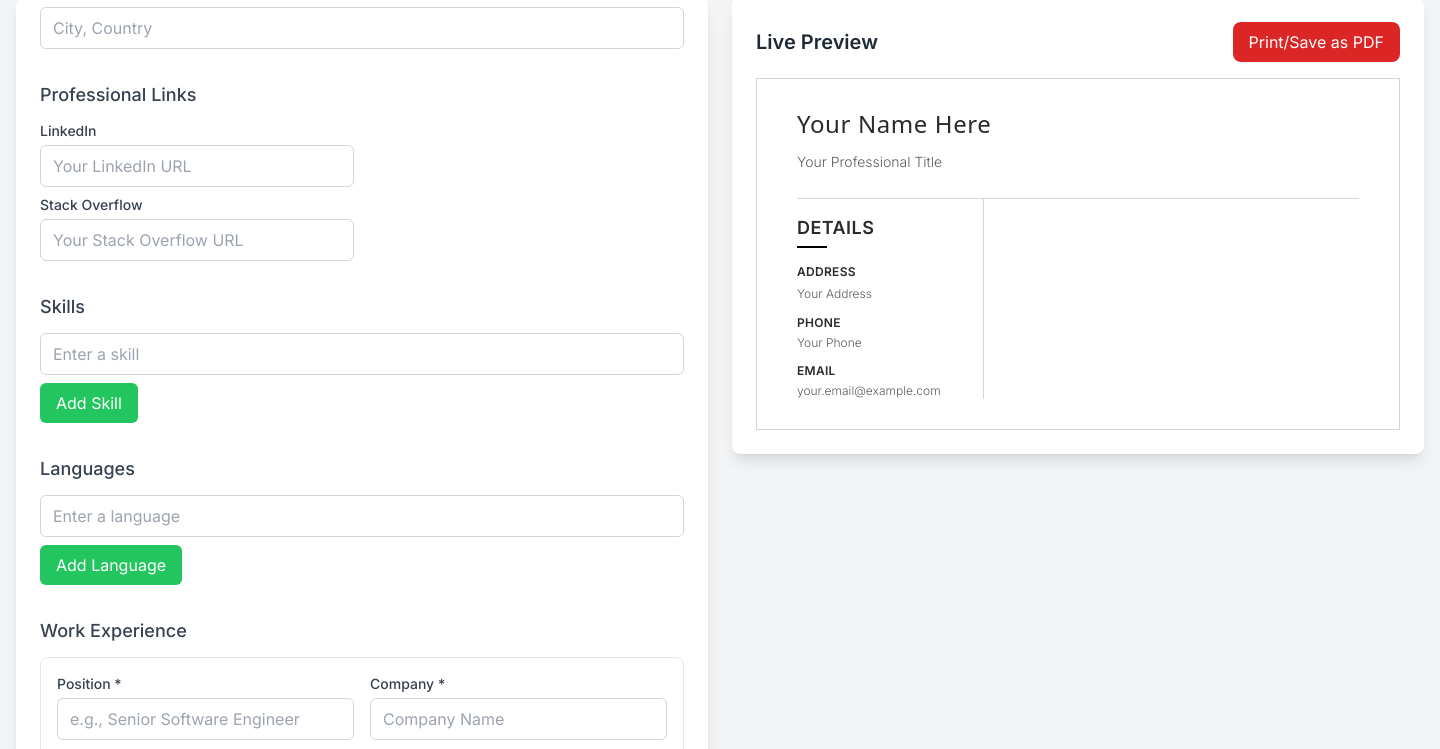
Test case: BuilderPage Component › can add and remove skills
(page scrolled)
Add a skill
Click the button "Add Skill": (89,403) [40, 383, 138, 423]
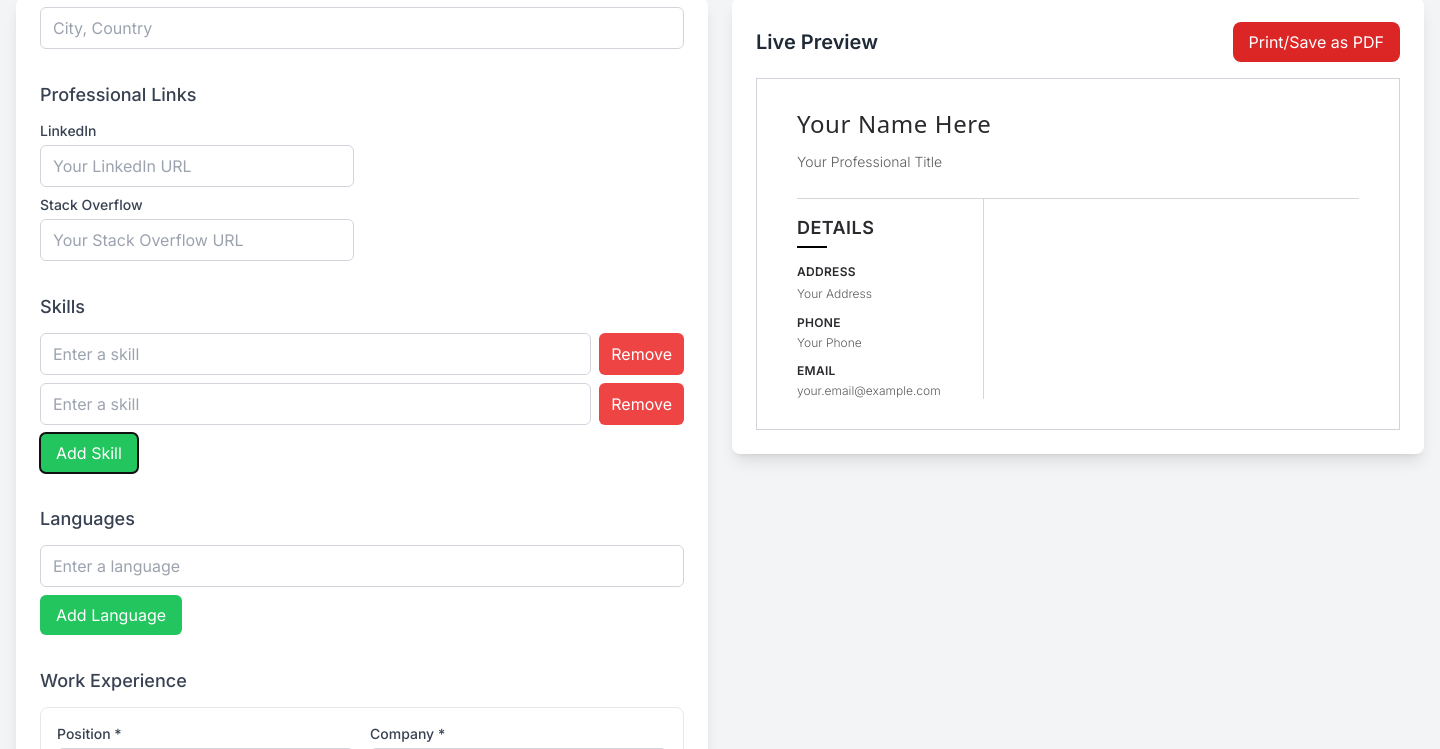
Check: the number of fields with placeholder "Enter a skill" is 2
Type in skill
In the 1st field with placeholder "Enter a skill": (316,354) [40, 333, 591, 375], type "JavaScript"
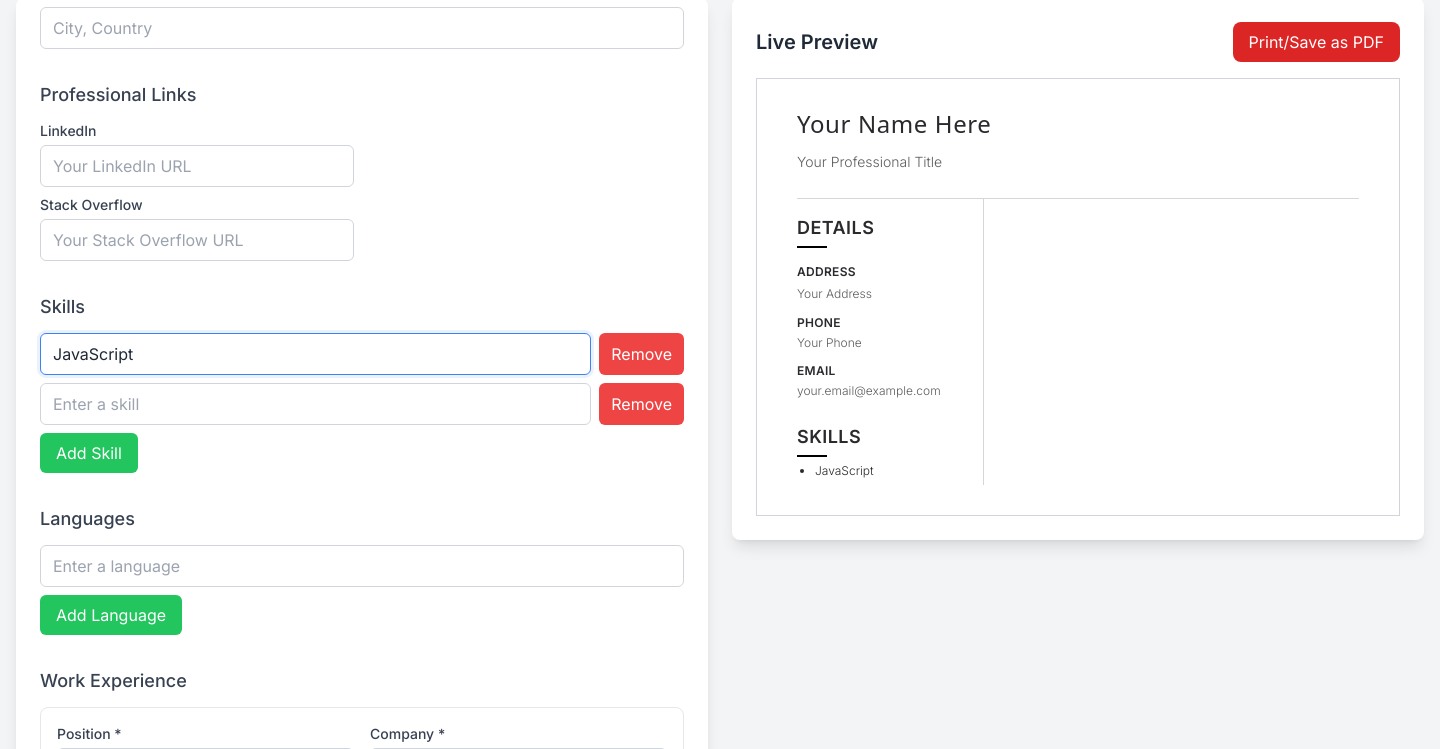
Click the 1st button "Remove": (642,354) [599, 333, 684, 375]
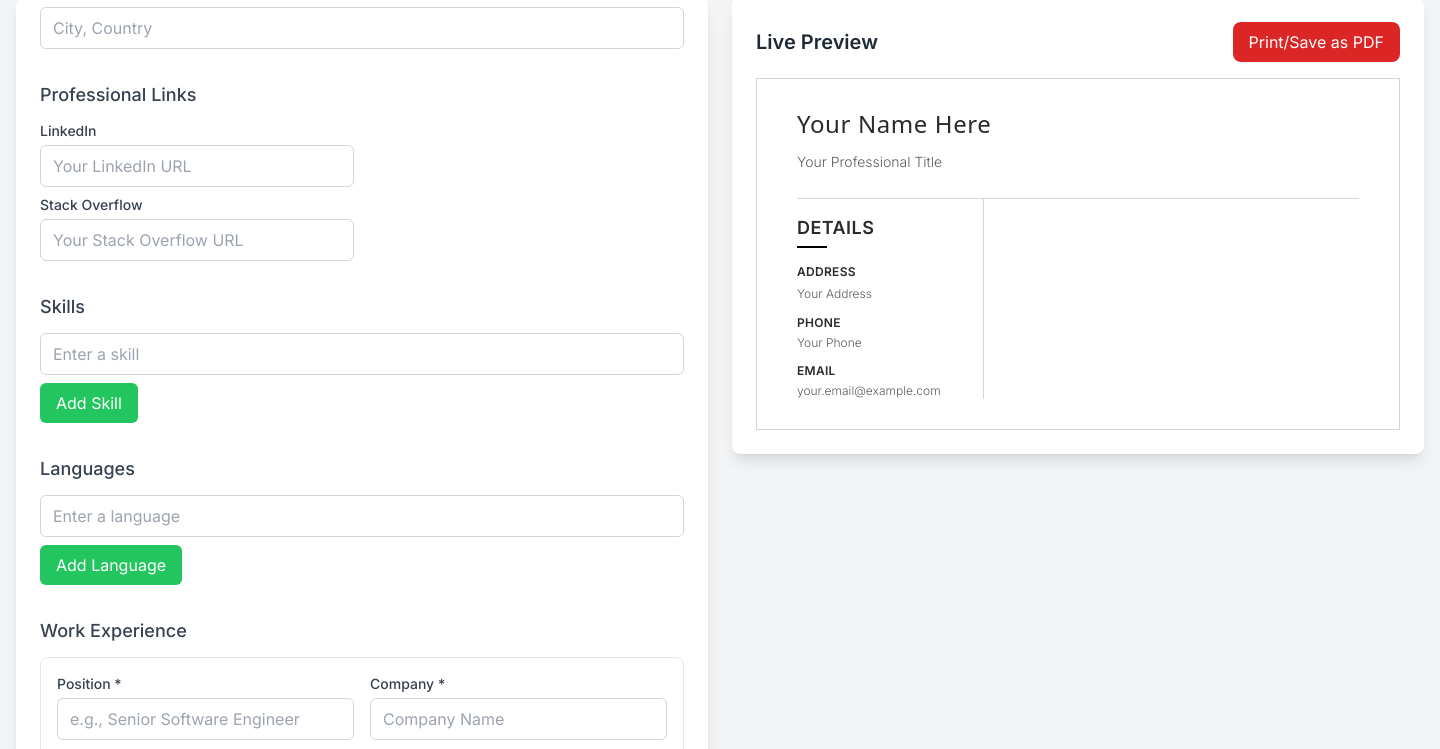
Check: the number of fields with placeholder "Enter a skill" is 1, box [40, 333, 684, 375]
